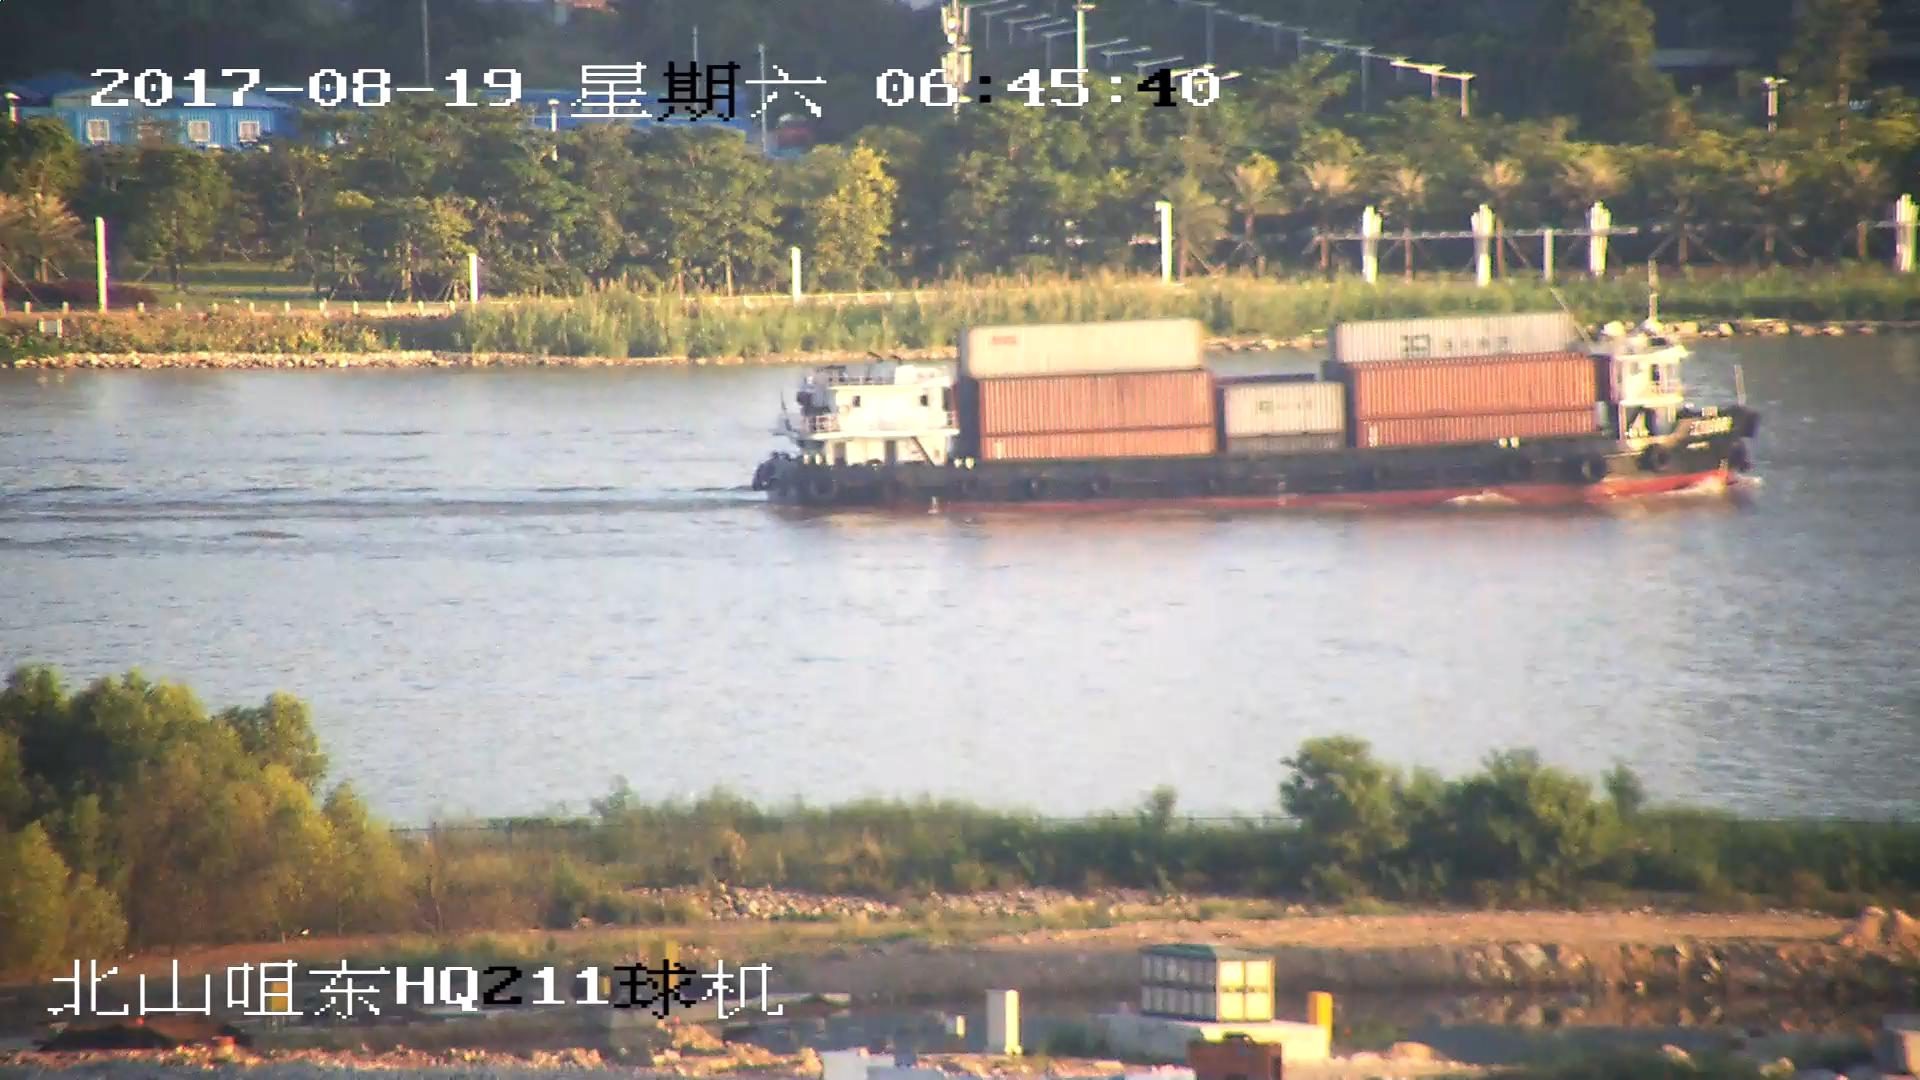container ship: (748, 301, 1757, 516)
